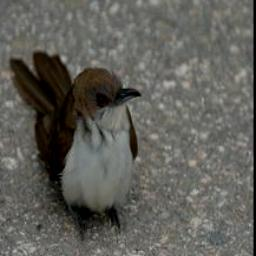Cuckoo: (8, 49, 143, 243)
